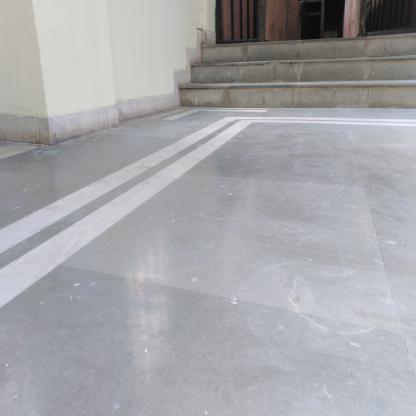stairs: (203, 39, 412, 113)
